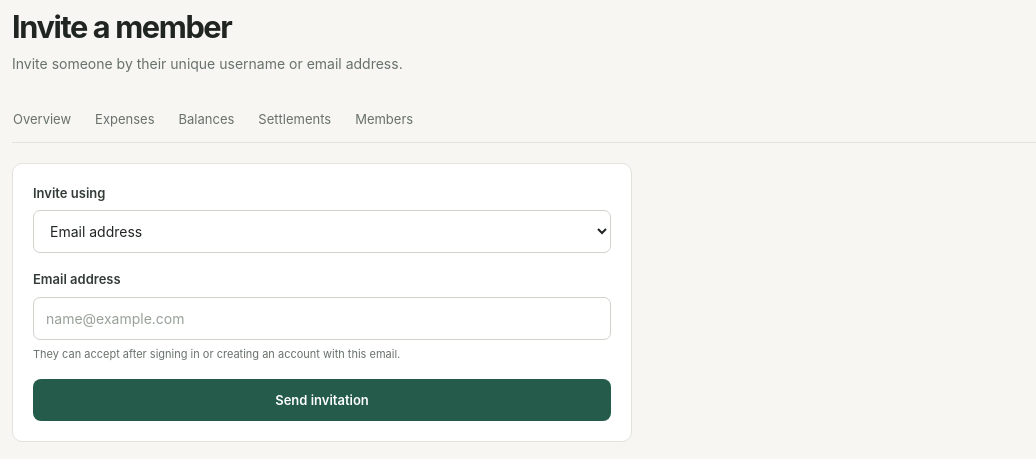
Scenario: account settings and expense details › sends a username invitation through the existing invitation API
Select "Username" in the dropdown labelled "Invite using" at (322, 232), box [33, 210, 611, 253]
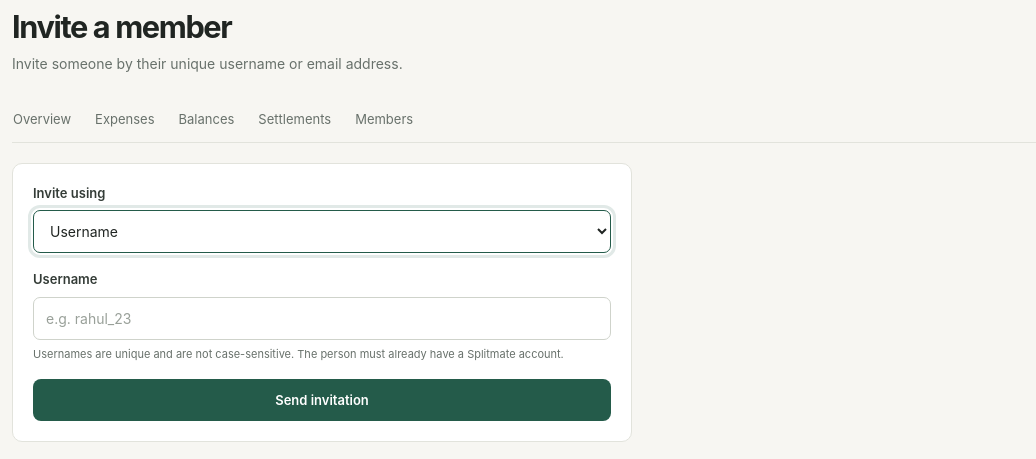
Type "rahul_23" into the field labelled "Username".
click(322, 318); type("rahul_23")  # box [33, 296, 611, 340]
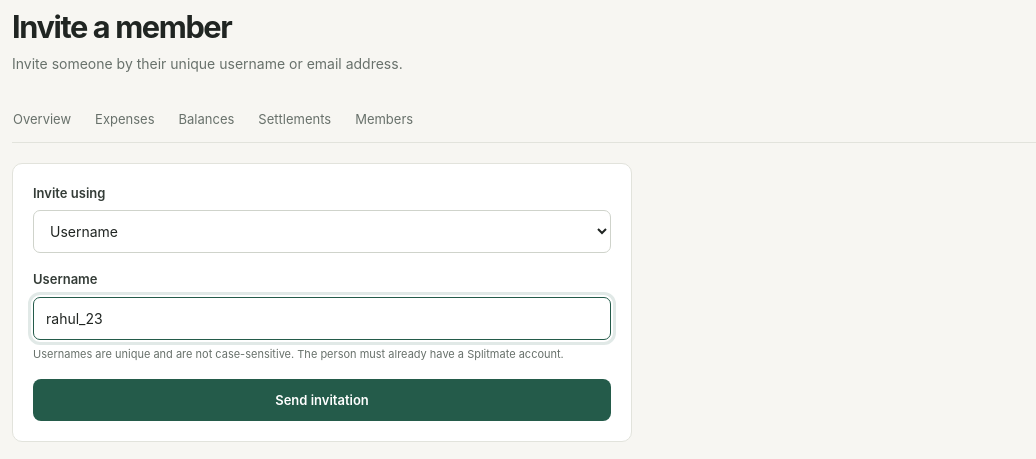
Click the button "Send invitation".
click(322, 400)  # box [33, 379, 611, 421]
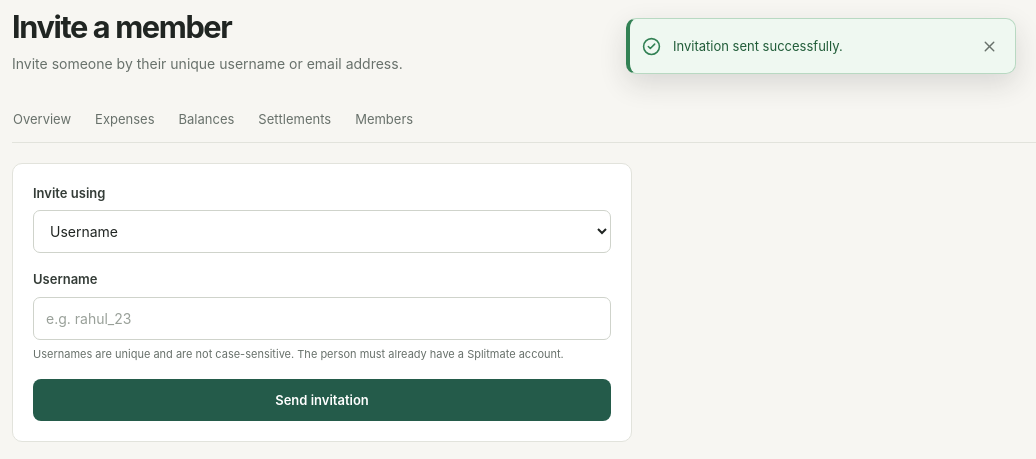
Now the message reads "Invitation sent successfully.", box [673, 38, 843, 54]
